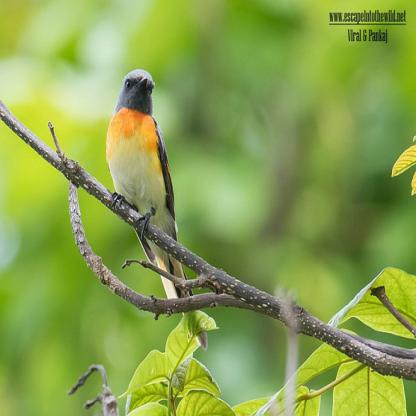Burung: (104, 67, 206, 350)
